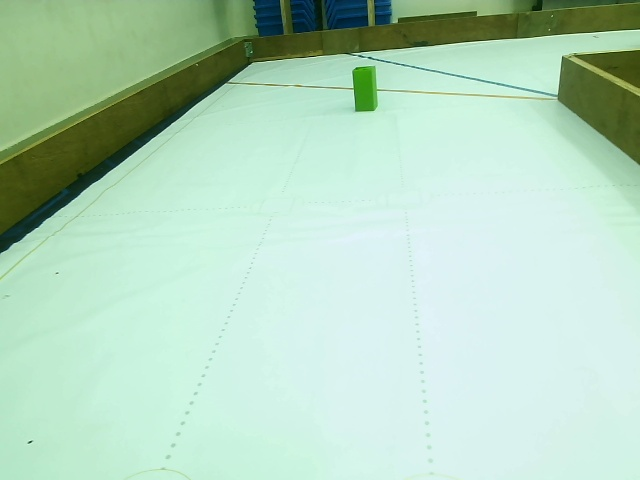green: (353, 67, 379, 109)
